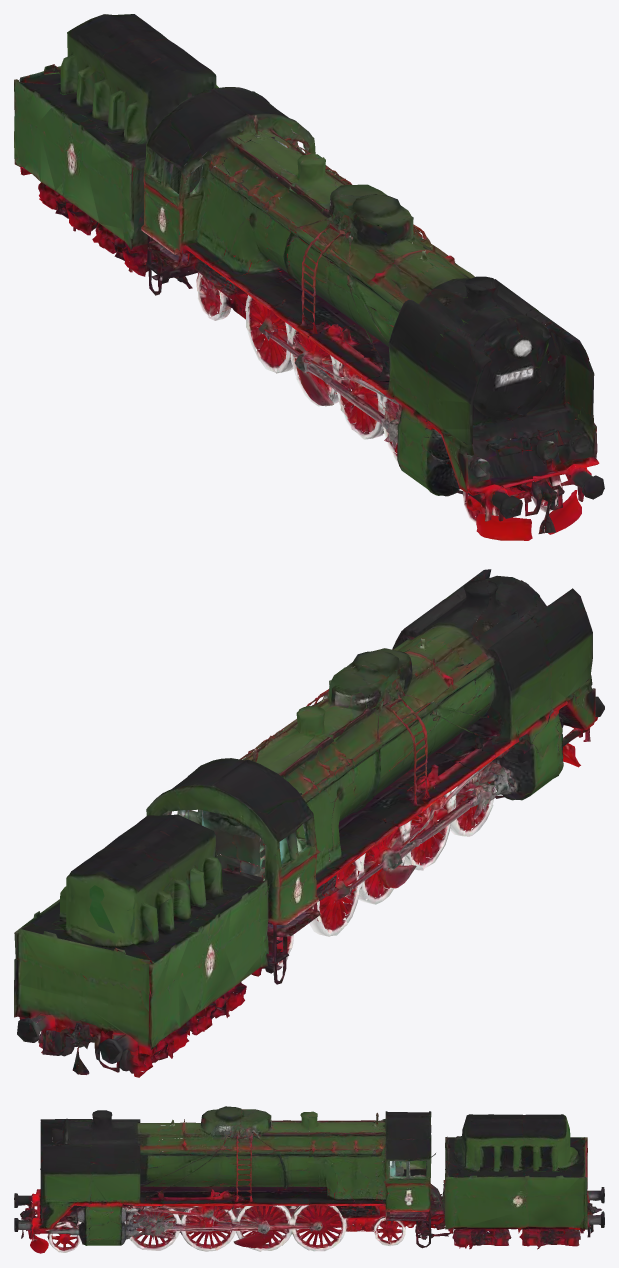
File: tr-steam-green.glb
3 renders of one model, top to bottom at view 1: azimuth 30°, elevation 25°; view 2: azimuth 150°, elevation 25°; view 3: azimuth 270°, elevation 25°, orthographic. The views are drawn at different scales.
Parts seen in each view (by area): view 1: Body; view 2: Body; view 3: Body.
Part boxes in pixels (x1=…): Body: x1=14, y1=14, x2=604, y2=540; Body: x1=14, y1=569, x2=604, y2=1077; Body: x1=14, y1=1106, x2=604, y2=1253.
Size of the model in its own units: 0.3296 by 0.4691 by 1.9.
1 material, 1 textured.
